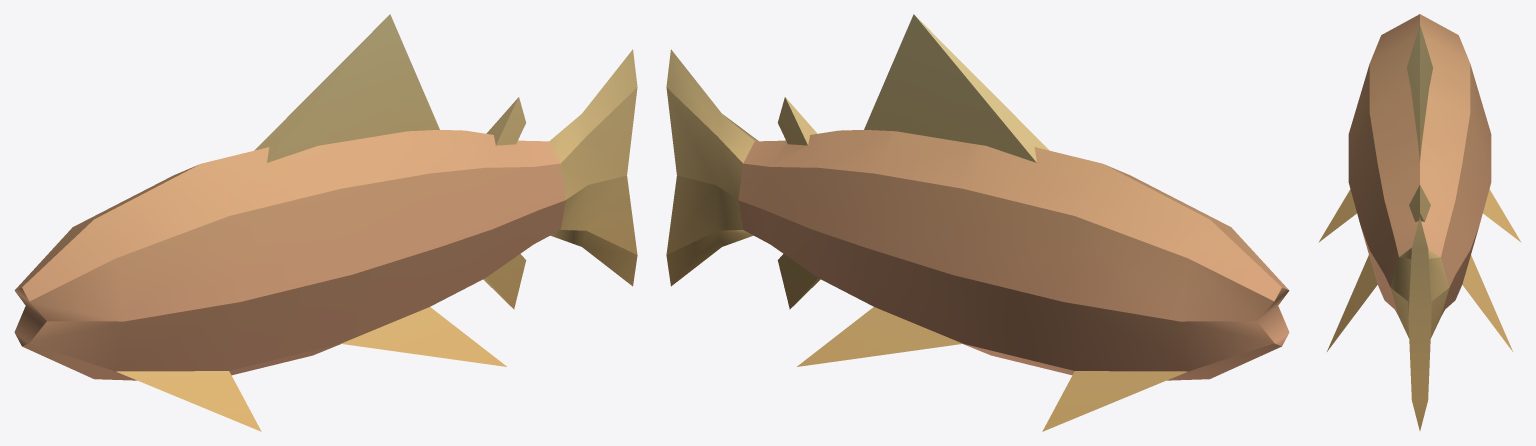
The model's file is fish.glb.
3 views of the same model, side by side, from view 1: azimuth 30°, elevation 25°; view 2: azimuth 150°, elevation 25°; view 3: azimuth 270°, elevation 25° (orthographic). The views are drawn at different scales.
Parts seen in each view (by area): view 1: fish; view 2: fish; view 3: fish.
Part boxes in pixels (box(x1,y1,x2,y2)): fish: box(14, 14, 637, 431); fish: box(666, 14, 1289, 431); fish: box(1318, 14, 1521, 430).
Bounding box in the file's own units: 0.2049 × 0.1063 × 0.0653.
